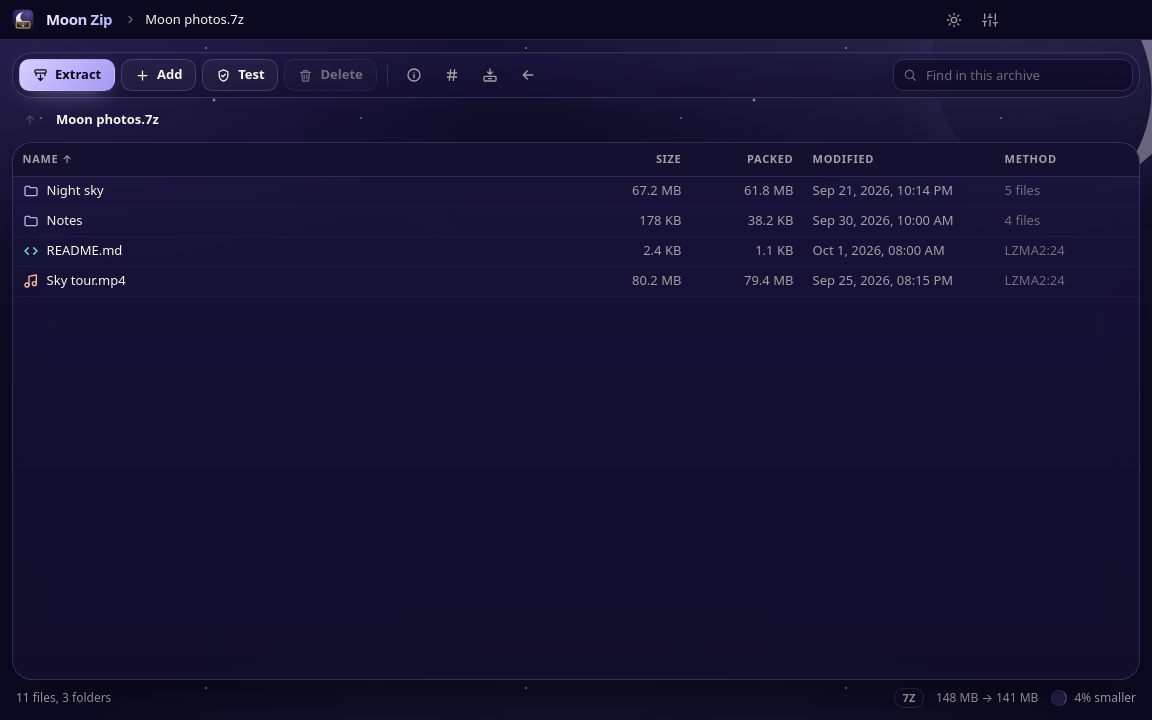
Scenario: archive window › renames with F2
Click the text "README.md". click: (84, 251)
box: [47,241,122,261]
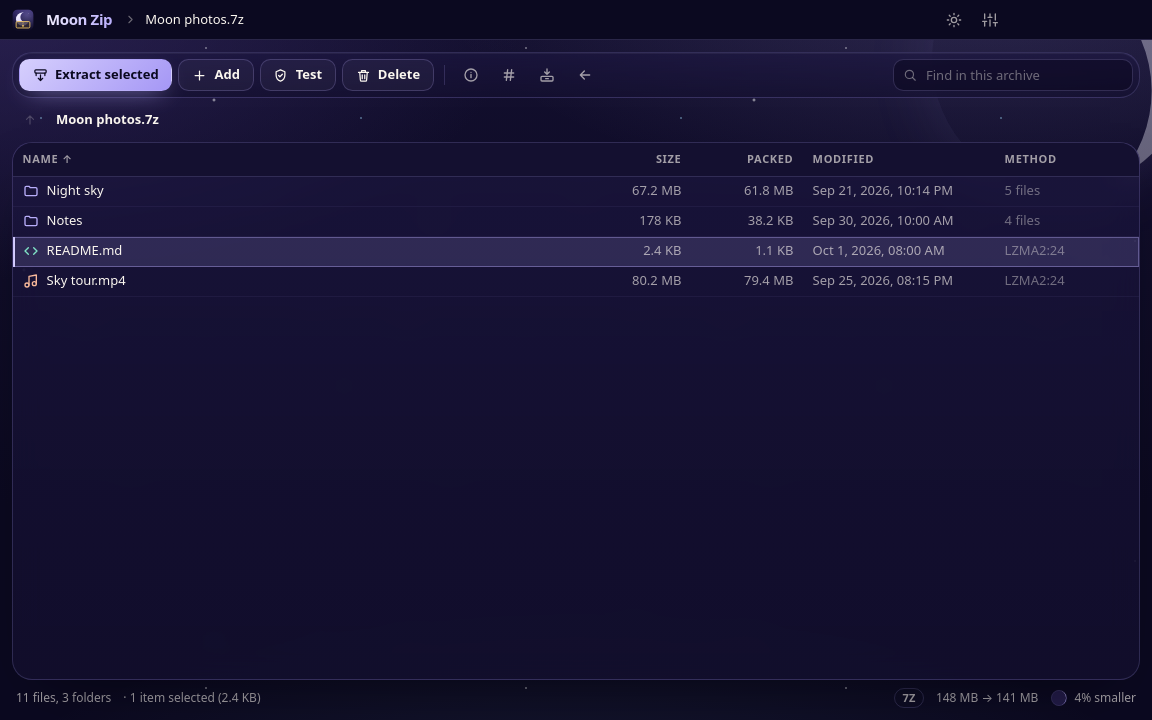
Press F2 in the table, box [13,143,1139,297]
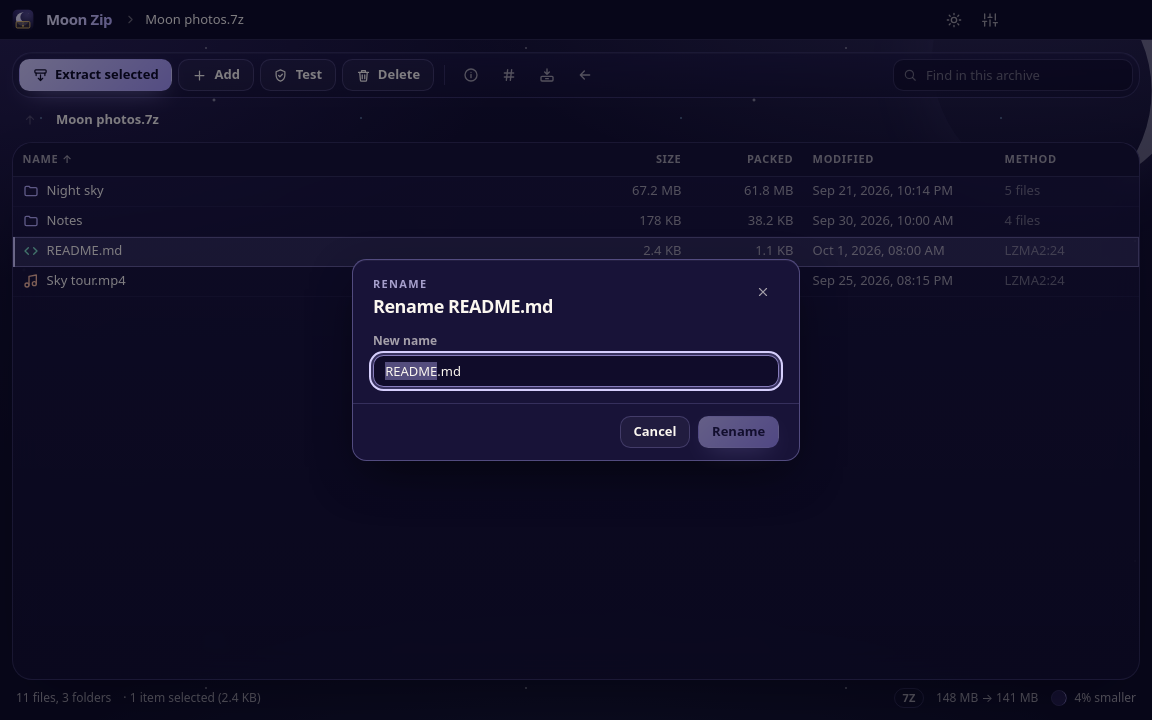
Replace the text in the field labelled "New name" with "Read me.md". click: (576, 371)
box: [373,355,779,387]
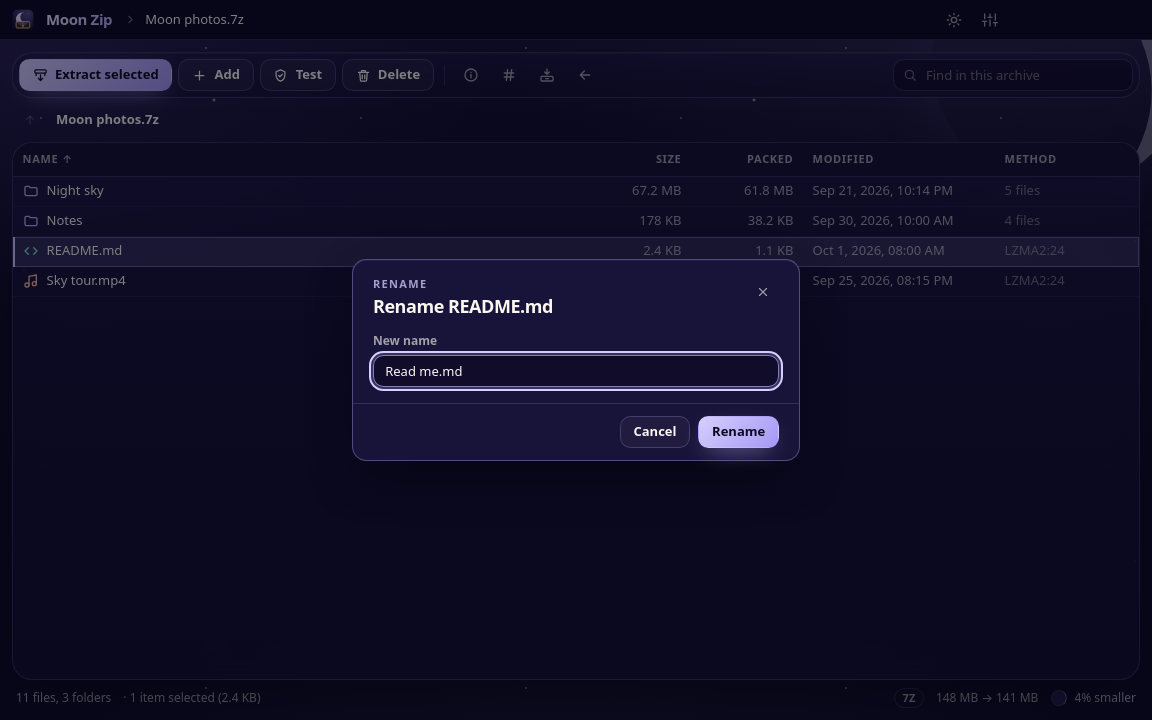
Click the button "Rename". click: (739, 432)
box: [698,416,779,448]
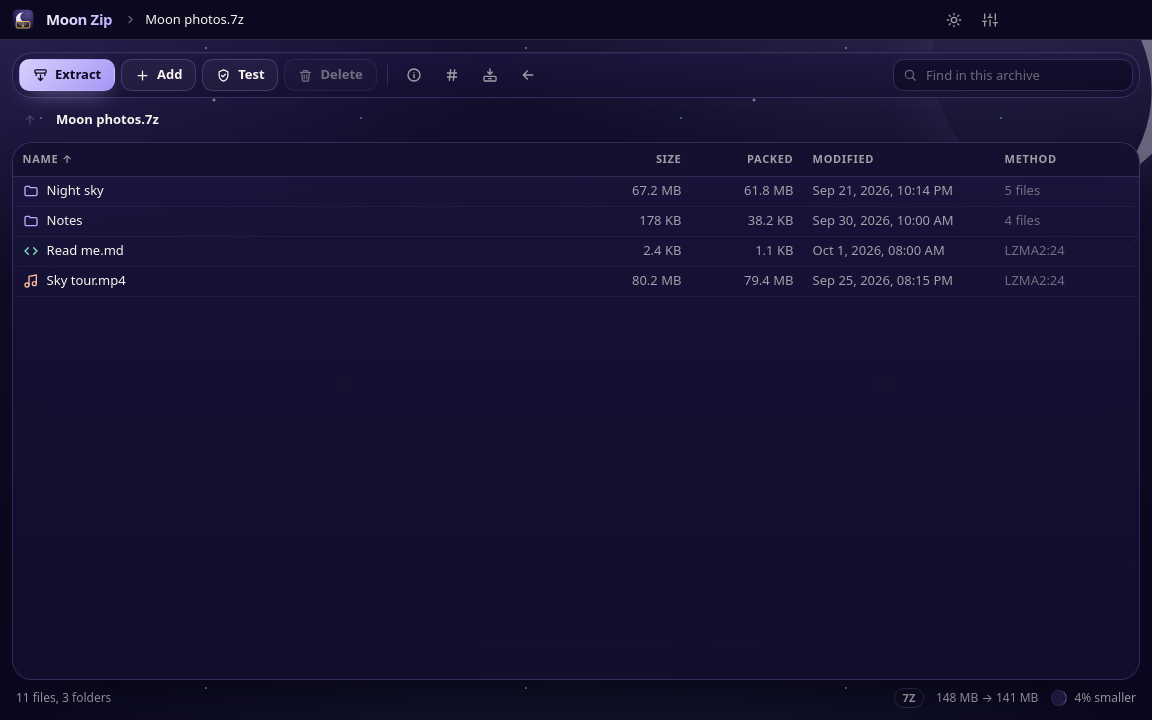
Now the text "Read me.md" is shown, box [47,241,124,261]
